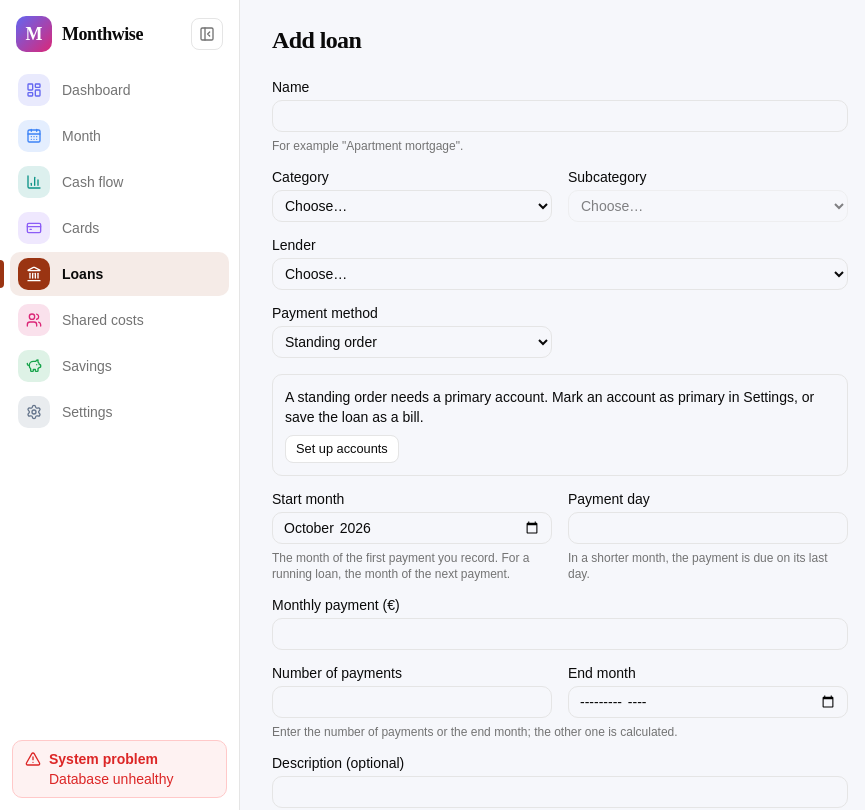
Scenario: Add loan form › says a standing order needs a primary account and allows a bill
The image size is (865, 810).
Expected: the text "A standing order needs a primary account. Mark an account as primary in Settings, or save the loan as a bill." is shown, [285,389,814,425]
Select "Bill" in the dropdown labelled "Payment method" at [412, 342], box [272,326,552,358]
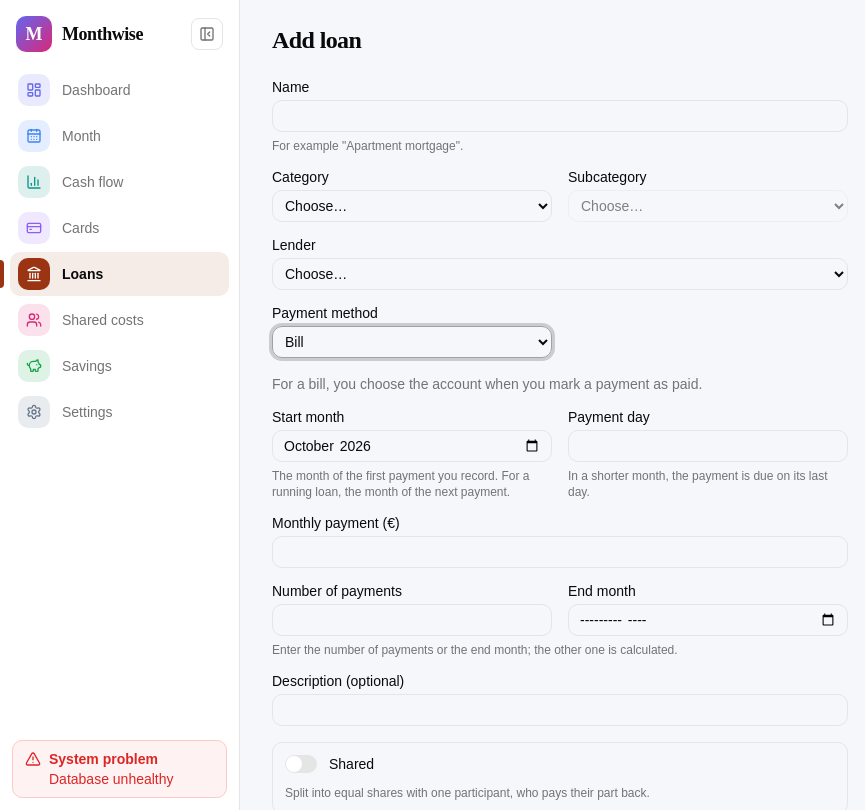
Result: the text "A standing order needs a primary account. Mark an account as primary in Settings, or save the loan as a bill." is gone
Result: the text "For a bill, you choose the account when you mark a payment as paid." is shown at [272,376,702,392]
